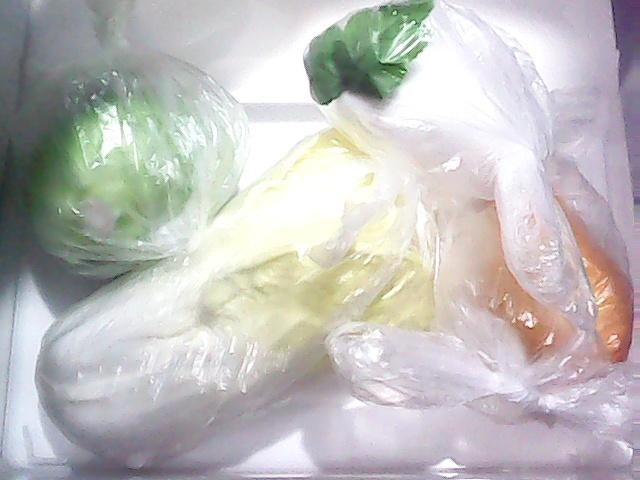cabbage: (29, 50, 235, 286)
mango: (442, 157, 636, 394)
napa cabbage: (39, 111, 434, 469)
radish: (303, 1, 583, 199)
